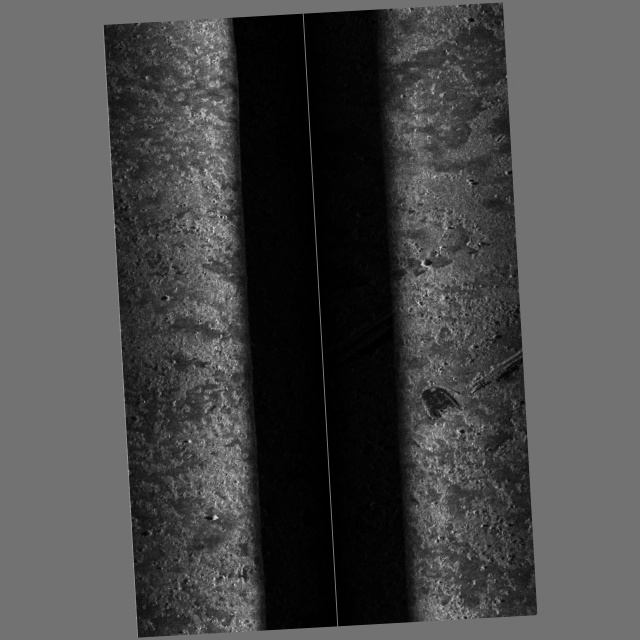Shipwreck: (318, 133, 526, 424)
